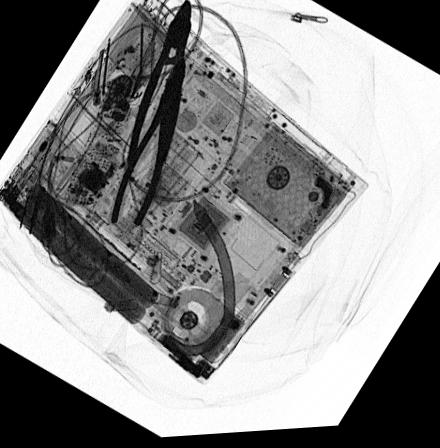Pliers: (107, 0, 191, 228)
